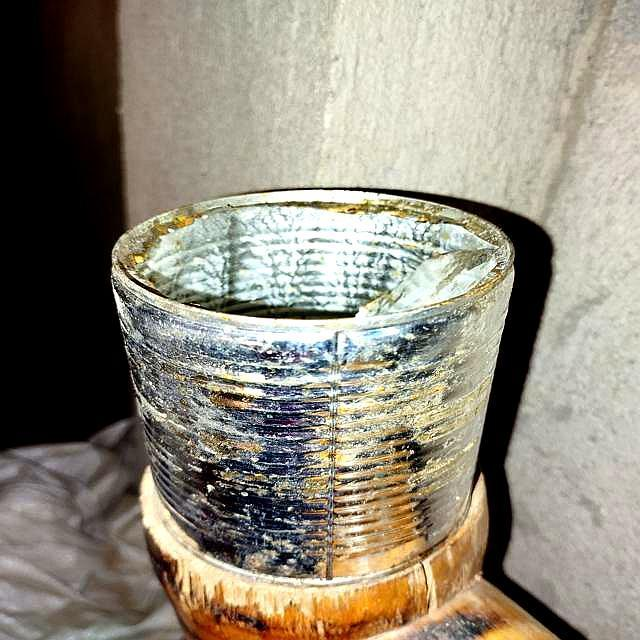Non-biodegradable: (112, 186, 520, 587)
